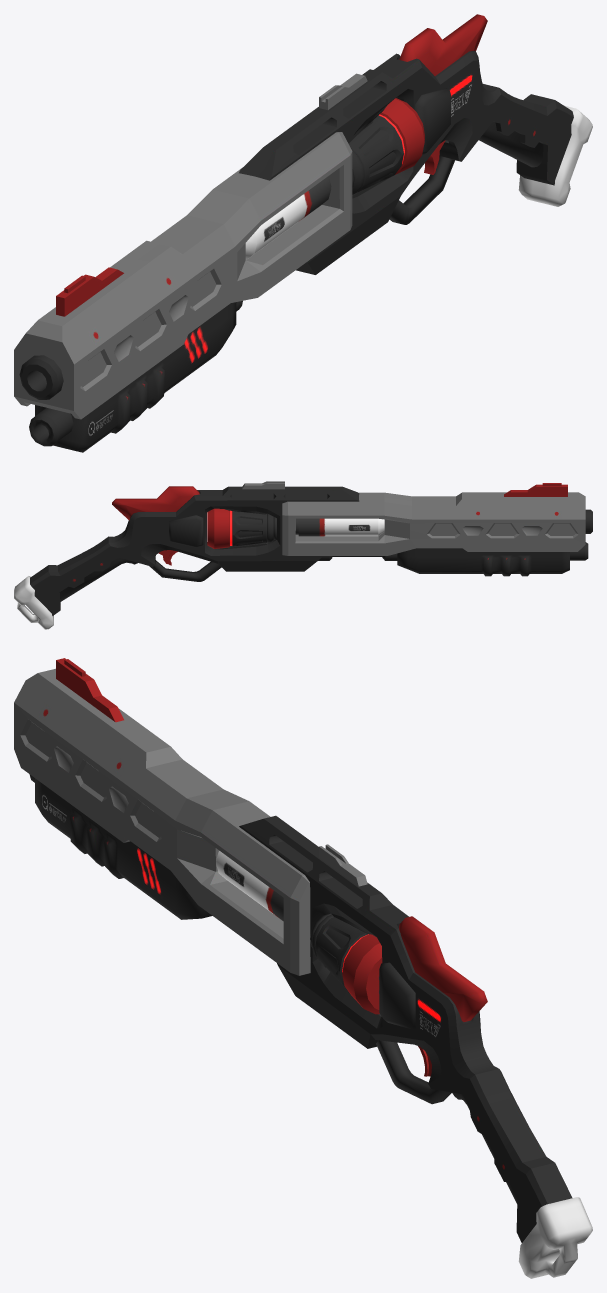
Rendered from shotgun.glb.
3 renders of one model, top to bottom at view 1: azimuth 30°, elevation 25°; view 2: azimuth 150°, elevation 25°; view 3: azimuth 270°, elevation 25°, orthographic. The views are drawn at different scales.
Visible parts, largest first — view 1: Cube_low, Cube.012_low, Cube.002_low, Cylinder.008_low, Cube.001_low, Cube.008_low, Cylinder_low, Cube.009_low, Cube.010_low, Cylinder.001_low, Cube.003_low, Cube.007_low (+2 smaller); view 2: Cube_low, Cube.012_low, Cube.002_low, Cylinder.008_low, Cylinder_low, Cube.001_low, Cube.008_low, Cube.010_low, Cube.009_low, Cube.003_low, Cube.007_low, Cube.004_low (+1 smaller); view 3: Cube_low, Cube.012_low, Cube.002_low, Cylinder.008_low, Cube.008_low, Cube.001_low, Cube.010_low, Cube.009_low, Cylinder_low, Cube.003_low, Cube.004_low.
Boxes of the visible parts, x1=… form: Cube_low: x1=14, y1=132, x2=352, y2=419; Cube.012_low: x1=239, y1=51, x2=573, y2=274; Cube.002_low: x1=35, y1=302, x2=236, y2=452; Cylinder.008_low: x1=349, y1=98, x2=424, y2=192; Cube.001_low: x1=399, y1=14, x2=487, y2=75; Cube.008_low: x1=518, y1=105, x2=592, y2=206; Cylinder_low: x1=245, y1=176, x2=331, y2=259; Cube.009_low: x1=389, y1=156, x2=454, y2=224; Cube.010_low: x1=414, y1=88, x2=450, y2=154; Cylinder.001_low: x1=19, y1=355, x2=63, y2=399; Cube.003_low: x1=56, y1=267, x2=123, y2=316; Cube.007_low: x1=479, y1=121, x2=543, y2=167; Cube_low: x1=282, y1=492, x2=585, y2=555; Cube.012_low: x1=30, y1=486, x2=359, y2=615; Cube.002_low: x1=397, y1=548, x2=569, y2=576; Cylinder.008_low: x1=207, y1=508, x2=266, y2=548; Cylinder_low: x1=295, y1=518, x2=384, y2=536; Cube.001_low: x1=112, y1=486, x2=199, y2=520; Cube.008_low: x1=14, y1=576, x2=53, y2=629; Cube.010_low: x1=169, y1=515, x2=203, y2=547; Cube.009_low: x1=149, y1=560, x2=221, y2=581; Cube.003_low: x1=504, y1=483, x2=567, y2=496; Cube.007_low: x1=60, y1=557, x2=137, y2=601; Cube.004_low: x1=242, y1=481, x2=284, y2=489; Cube_low: x1=14, y1=668, x2=310, y2=975; Cube.012_low: x1=239, y1=815, x2=572, y2=1242; Cube.002_low: x1=35, y1=778, x2=212, y2=919; Cylinder.008_low: x1=315, y1=917, x2=382, y2=1014; Cube.008_low: x1=518, y1=1197, x2=592, y2=1278; Cube.001_low: x1=399, y1=916, x2=487, y2=1021; Cube.010_low: x1=379, y1=962, x2=415, y2=1029; Cube.009_low: x1=376, y1=1040, x2=451, y2=1104; Cylinder_low: x1=216, y1=850, x2=283, y2=921; Cube.003_low: x1=56, y1=658, x2=123, y2=722; Cube.004_low: x1=319, y1=844, x2=367, y2=886.
Bounding box in the file's own units: 4.63 × 1.43 × 2.82.
Materials: 1 (1 with a texture image).
